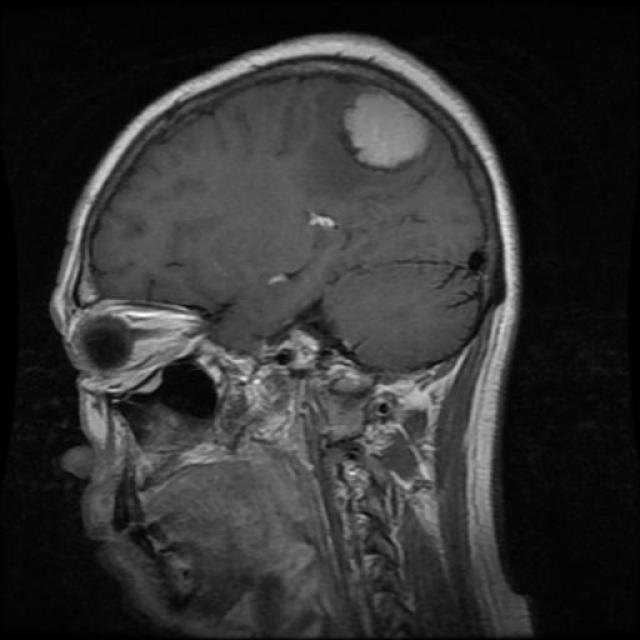Meningioma: (345, 89, 429, 168)
